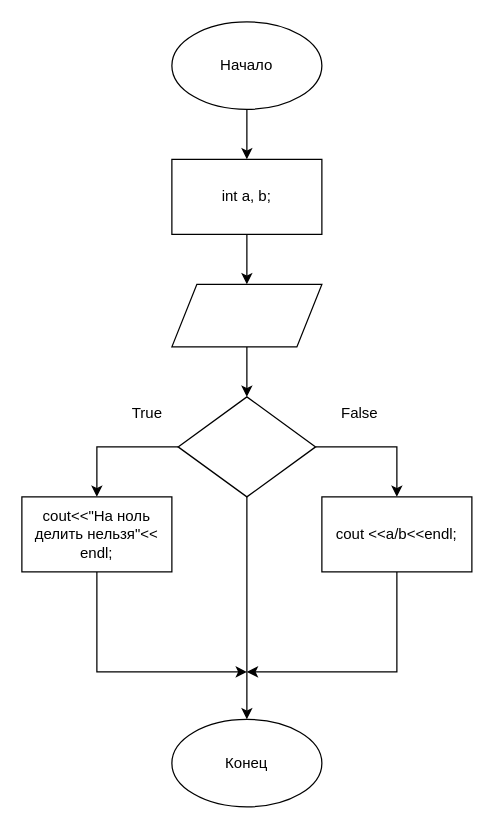
This 494x829 diagram has some shape labels left out. Each missing label, with the centre of its shape:
"cin >>a>>b;" goes at point 246,315.
"if (b==0)" goes at point 246,446.
